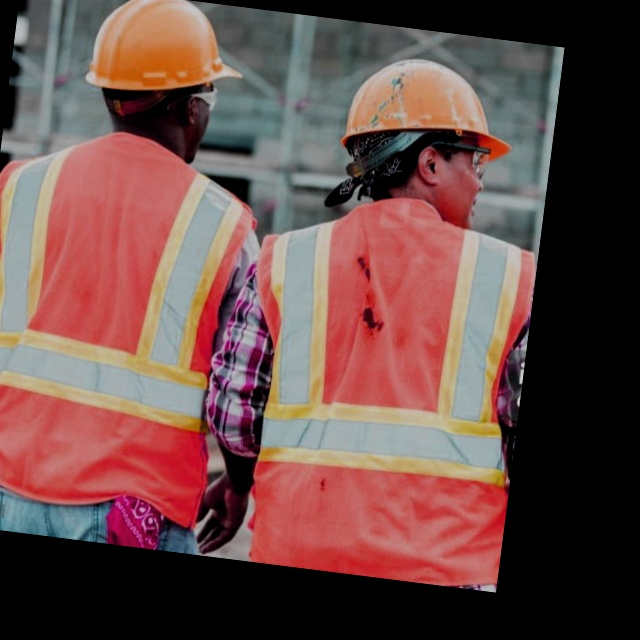Con_Casco: (80, 0, 251, 153)
Con_Chaleco: (236, 185, 543, 579), (0, 122, 252, 516)
